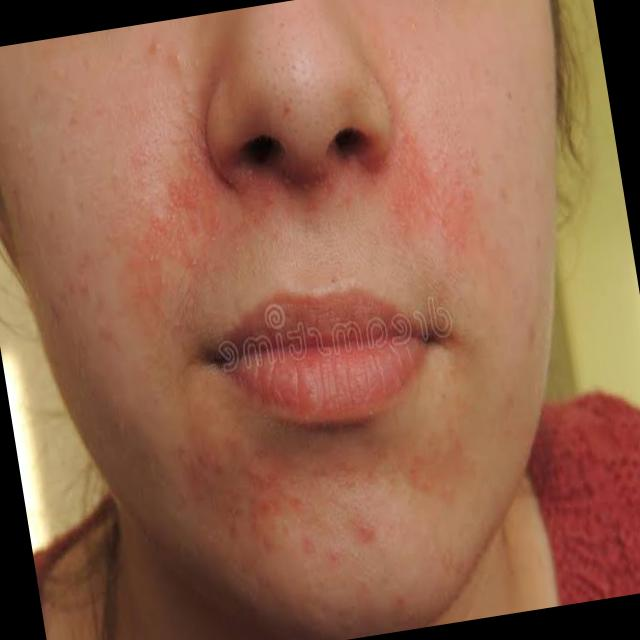redness: (167, 437, 447, 607), (116, 122, 221, 344), (232, 137, 385, 242), (391, 113, 478, 242), (140, 37, 197, 81)
